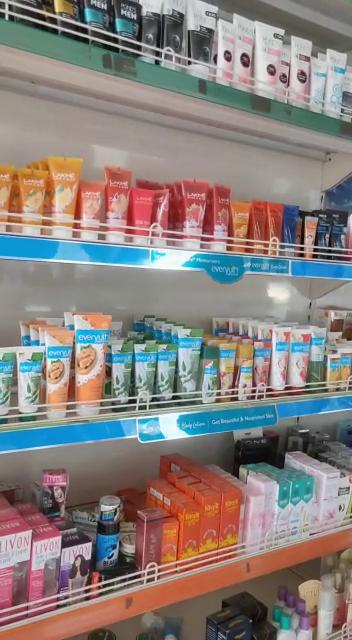EY EXF WALNUT SCRUB AYR 200G: (74, 313, 105, 415), (42, 324, 69, 416)
EY NATURALS NEEM FACE WASH AY 50G: (18, 347, 39, 420), (180, 326, 199, 400), (111, 347, 131, 408), (156, 344, 176, 403), (136, 345, 155, 407), (0, 350, 12, 414)
